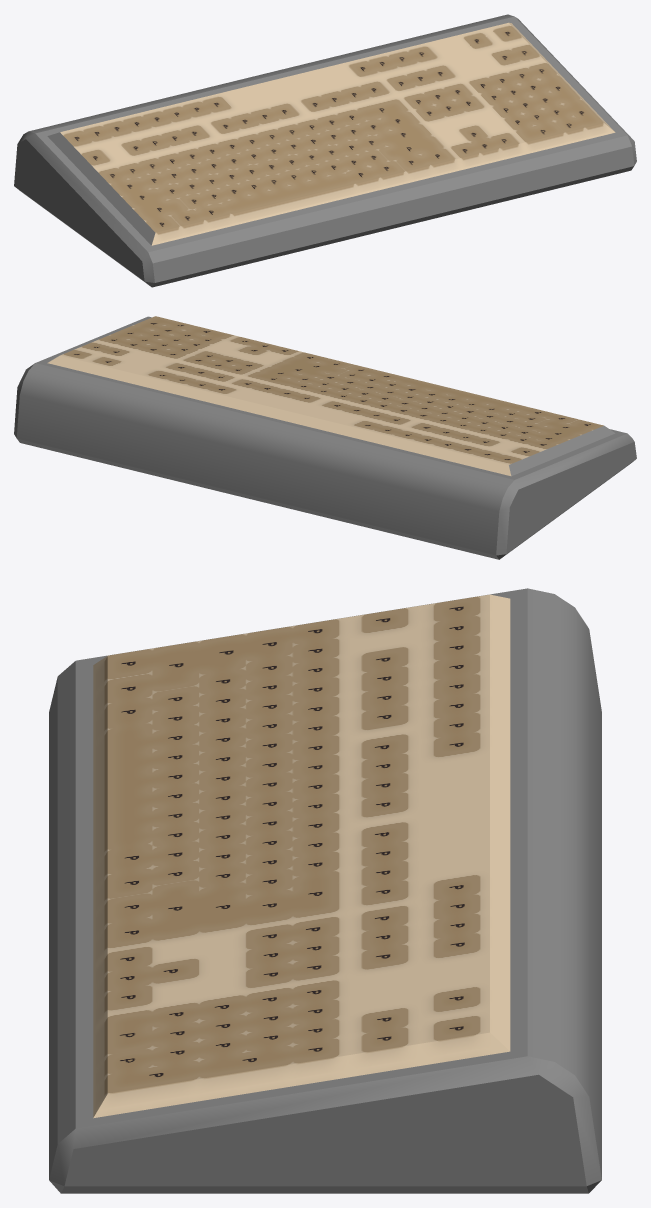
Rendered from Computer Keyboard.fbx.
3 views of the same model, one above another, from view 1: azimuth 30°, elevation 25°; view 2: azimuth 150°, elevation 25°; view 3: azimuth 270°, elevation 25° (orthographic). The views are drawn at different scales.
Parts seen in each view (by area): view 1: Computer Keyboard; view 2: Computer Keyboard; view 3: Computer Keyboard.
Boxes of the visible parts, left/top/right/bottom form: Computer Keyboard: left=14, top=14, right=636, bottom=287; Computer Keyboard: left=14, top=316, right=636, bottom=559; Computer Keyboard: left=49, top=588, right=601, bottom=1193.
Bounding box in the file's own units: 64.36 × 9.12 × 31.29.
